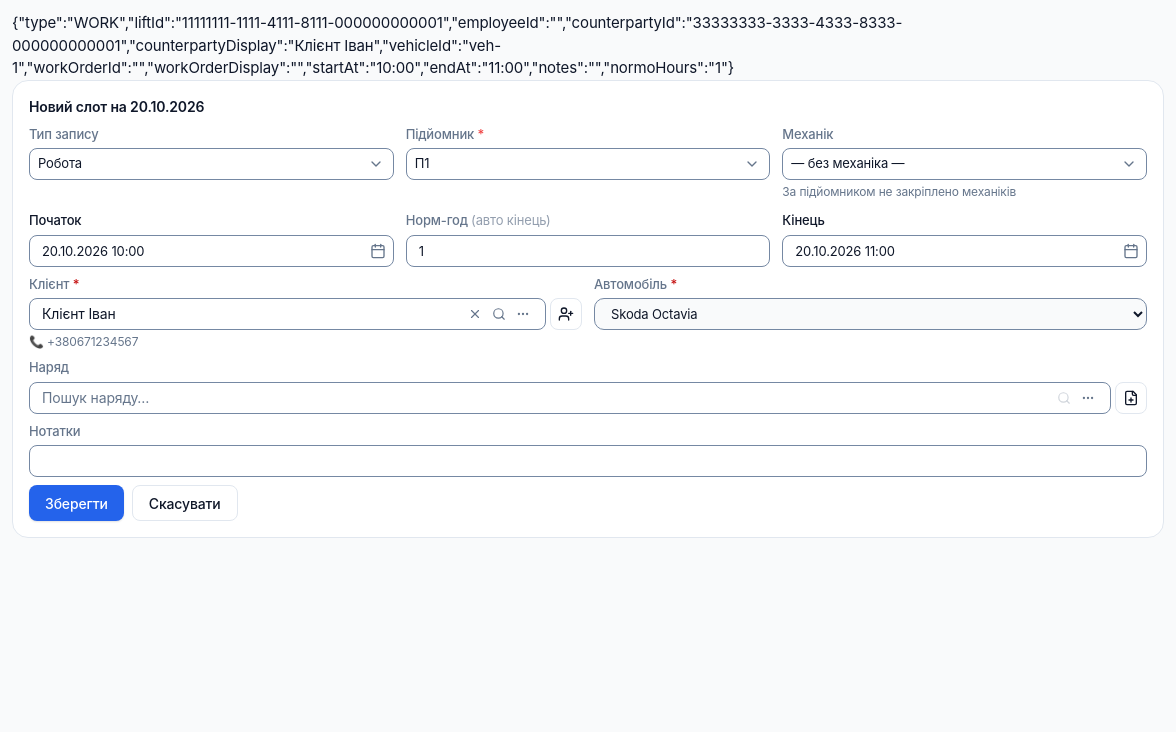
Test: CalendarSlotModal — тип запису (BR-CAL-003) › «Перерва» скидає й телефон клієнта: назад на «Роботу» — телефону знятого клієнта немає
expect the link "+380671234567" is shown: met, box [47,334,138,349]
Select "Перерва" in the dropdown labelled "Тип запису" at (211, 164), box [29,148,394,180]
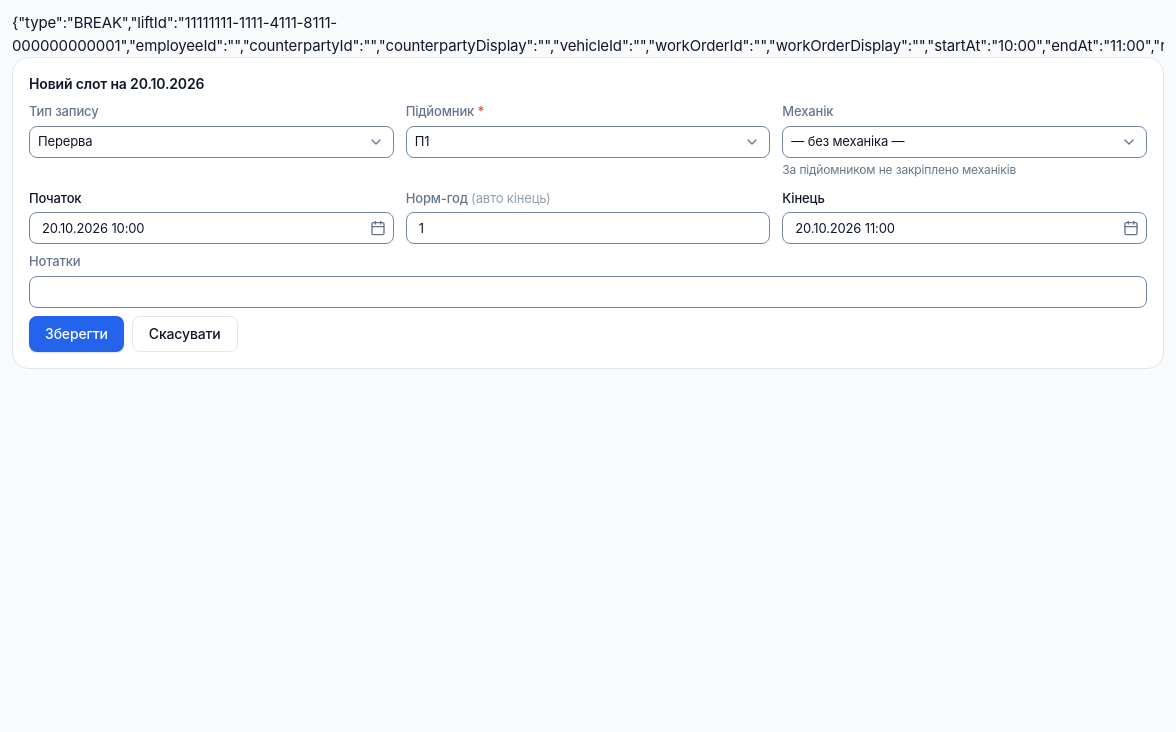
Select "Робота" in the dropdown labelled "Тип запису" at (211, 142), box [29,126,394,158]
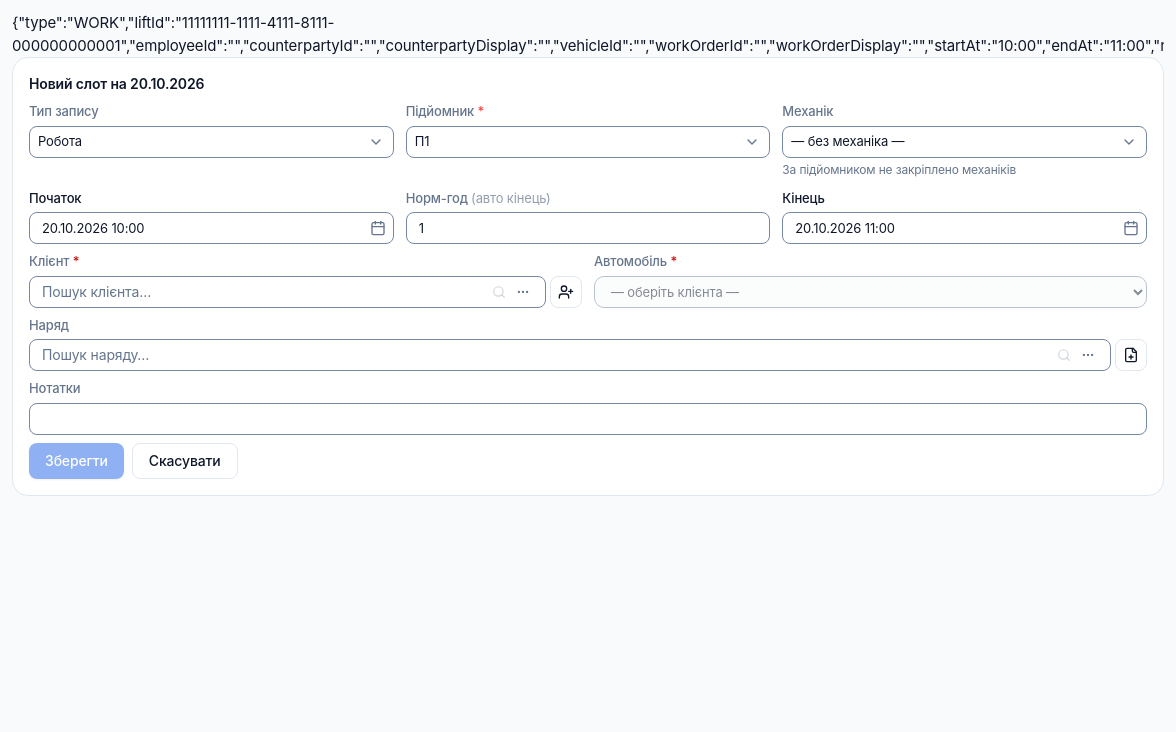
expect the link "+380671234567" is not shown: met
expect the text "Клієнт" is shown: met, box [29,253,70,269]
